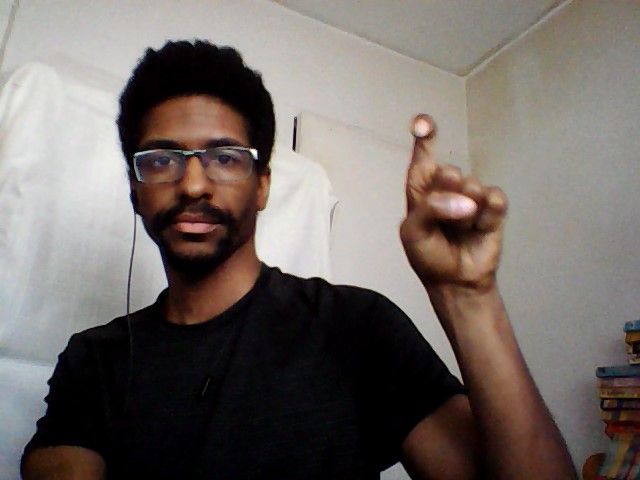x: (394, 107, 515, 296)
